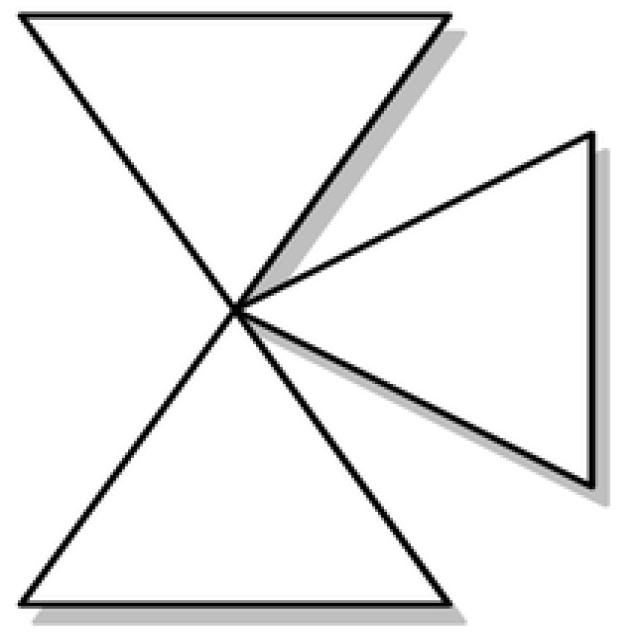3-way Valve: (21, 132, 594, 603), (22, 14, 446, 308)
